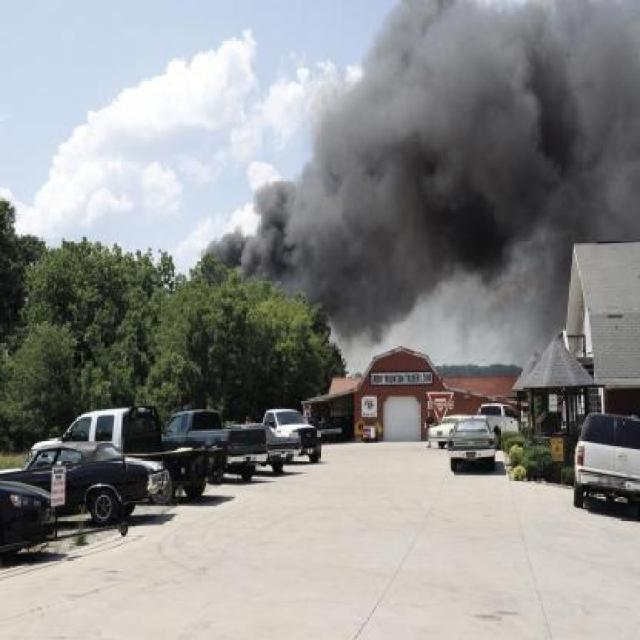Smoke: (295, 0, 640, 300), (202, 182, 293, 270)
